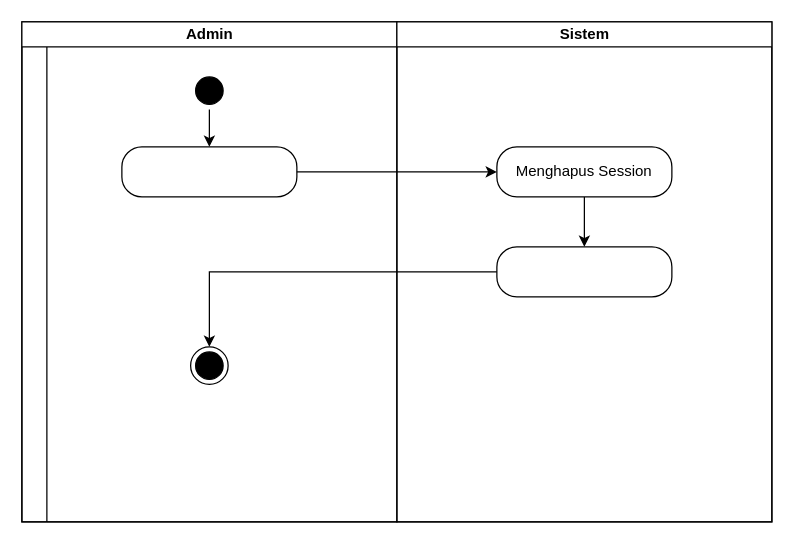
Image size: 794x544. Some labels were removed from this diagram. Here are the shapes that lost their labels. From the top down, the centre of each, then its label:
the point at 209,171: Pilih menu Logout
the point at 584,271: Redirect ke Halaman Utama
